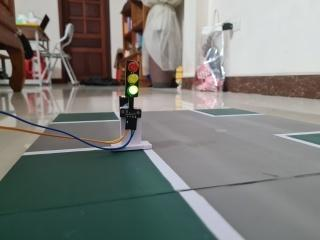green: (110, 50, 152, 108)
